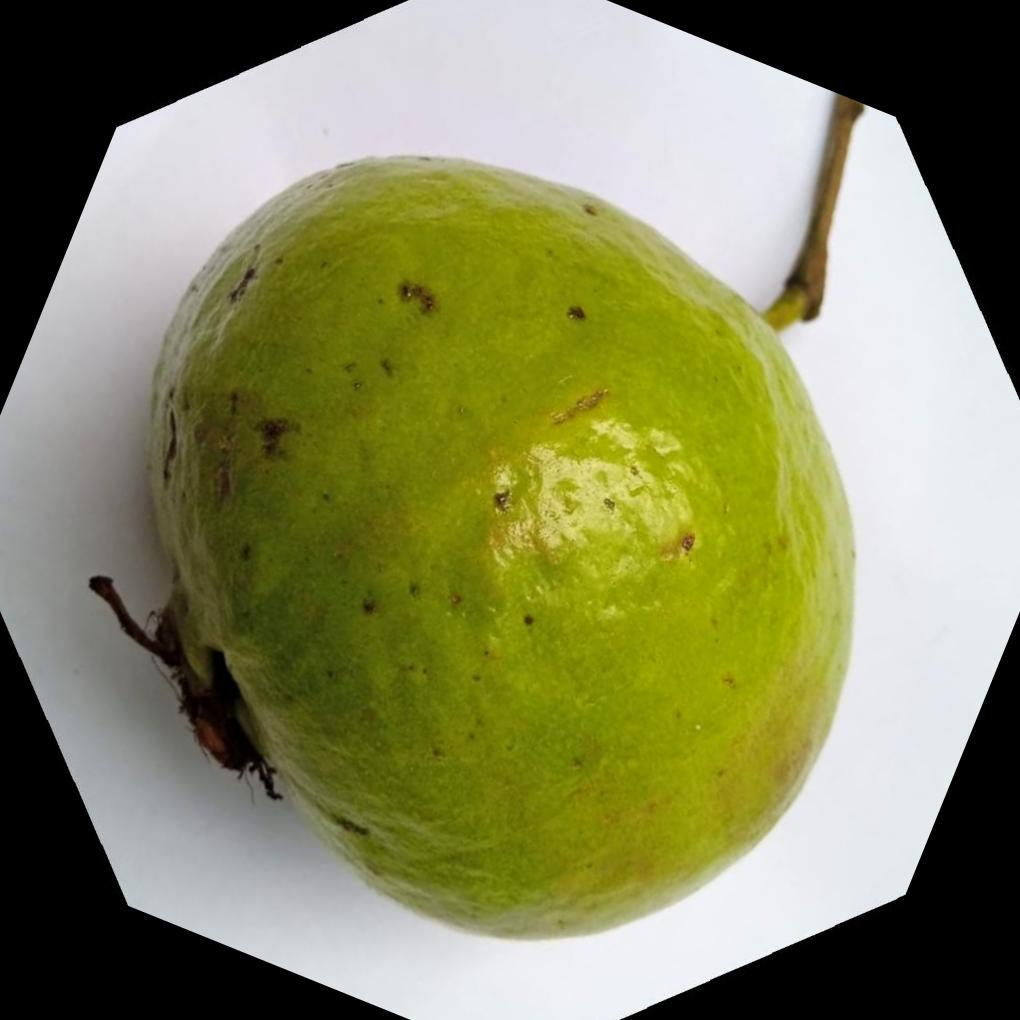FreshGuava: (126, 149, 858, 940)
